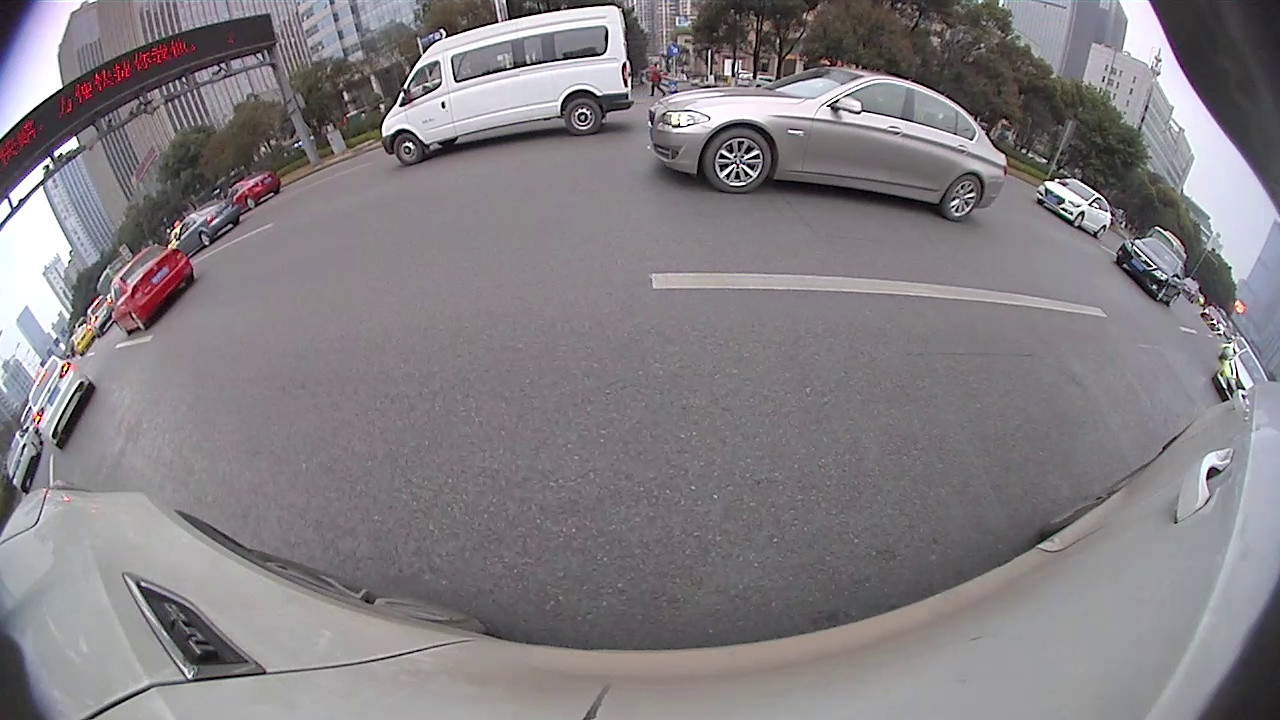car: (648, 70, 1006, 221), (380, 5, 633, 165), (109, 244, 198, 335), (28, 357, 93, 447), (1117, 238, 1185, 308), (1032, 181, 1110, 238), (175, 200, 240, 248), (1210, 350, 1268, 403), (224, 170, 282, 213)
front: (702, 124, 775, 195), (393, 131, 427, 167), (1075, 212, 1085, 227)
rear: (940, 175, 986, 219), (565, 98, 602, 134), (198, 232, 210, 247), (1096, 225, 1106, 240), (246, 195, 256, 209)
